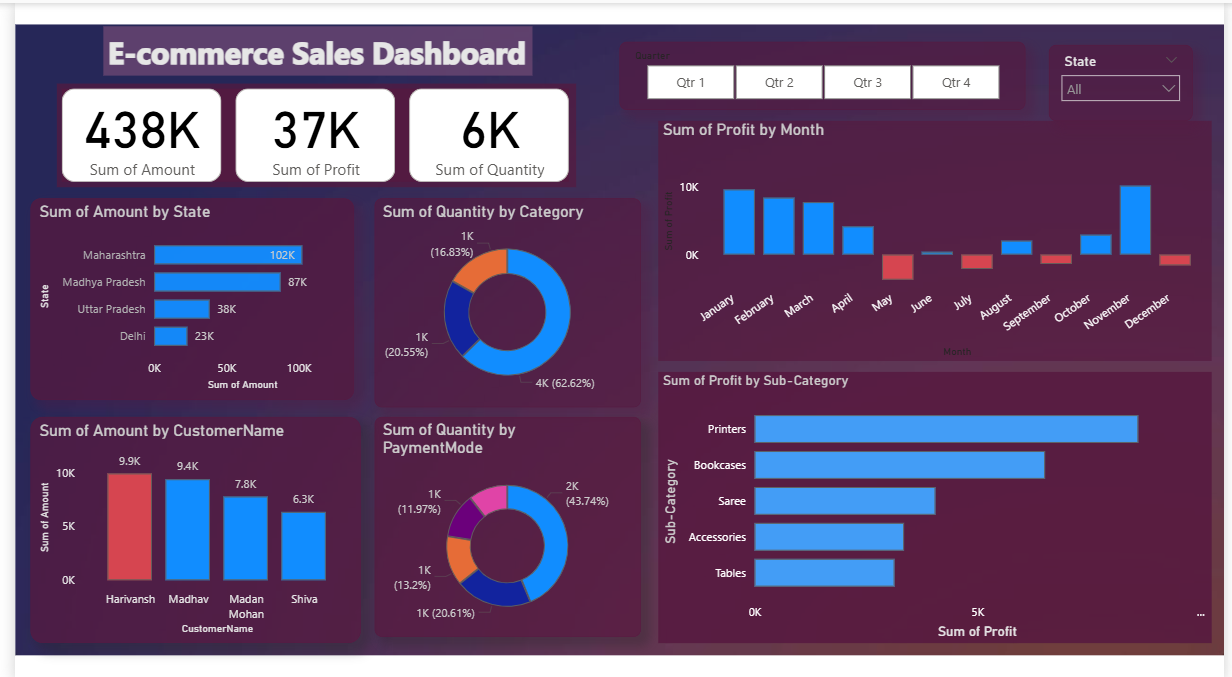

The page's visual inventory and layout, read from the dashboard file:
{"tool":"powerbi","page":{"name":"Page 1","canvas":[1280,720],"ordinal":0},"visuals":[{"type":"textbox","box":[93.5,24.6,454.5,52.5],"z":0},{"type":"columnChart","fields":{"Category":["Orders.Order Date.Variation.Date Hierarchy.Month"],"Y":["Details.Profit"]},"box":[680.9,124.7,585.7,254.3],"z":1000},{"type":"barChart","fields":{"Category":["Details.Sub-Category"],"Y":["Details.Profit"]},"box":[680.9,390.5,585.7,287.1],"z":2000},{"type":"donutChart","fields":{"Category":["Details.Category"],"Y":["Details.Quantity"]},"box":[380.6,206.7,282.2,221.5],"z":3000},{"type":"donutChart","fields":{"Category":["Details.PaymentMode","Details.Category"],"Y":["Details.Quantity"]},"box":[380.6,438,282.2,233],"z":4000},{"type":"clusteredBarChart","fields":{"Category":["Orders.State"],"Y":["Details.Amount"]},"box":[16.4,206.7,342.9,213.3],"z":5000},{"type":"cardVisual","fields":{"Data":["Details.Amount","Details.Profit","Details.Quantity"]},"box":[44.3,85.3,549.6,109.9],"z":6000},{"type":"columnChart","fields":{"Category":["Orders.CustomerName"],"Y":["Details.Amount"]},"box":[16.4,438,349.5,239.5],"z":7000},{"type":"slicer","fields":{"Values":["Orders.Order Date.Variation.Date Hierarchy.Quarter"]},"box":[639.8,41,429.8,72.2],"z":8000},{"type":"slicer","fields":{"Values":["Orders.State"]},"box":[1094.3,44.3,152.6,80.4],"z":9000}]}

Visuals, with their boxes in screenshot pixels (x1, y1, x2, y2), scaled from the page's 1280x720 canvas onto the 1232x677 screenshot:
textbox: Rect(90, 23, 527, 72)
columnChart - Orders.Order Date.Variation.Date Hierarchy.Month x Details.Profit: Rect(655, 117, 1219, 356)
barChart - Details.Sub-Category x Details.Profit: Rect(655, 367, 1219, 637)
donutChart - Details.Category x Details.Quantity: Rect(366, 194, 638, 403)
donutChart - Details.PaymentMode x Details.Category: Rect(366, 412, 638, 631)
clusteredBarChart - Orders.State x Details.Amount: Rect(16, 194, 346, 395)
cardVisual - Details.Amount x Details.Profit: Rect(43, 80, 572, 184)
columnChart - Orders.CustomerName x Details.Amount: Rect(16, 412, 352, 637)
slicer - Orders.Order Date.Variation.Date Hierarchy.Quarter: Rect(616, 39, 1029, 106)
slicer - Orders.State: Rect(1053, 42, 1200, 117)
